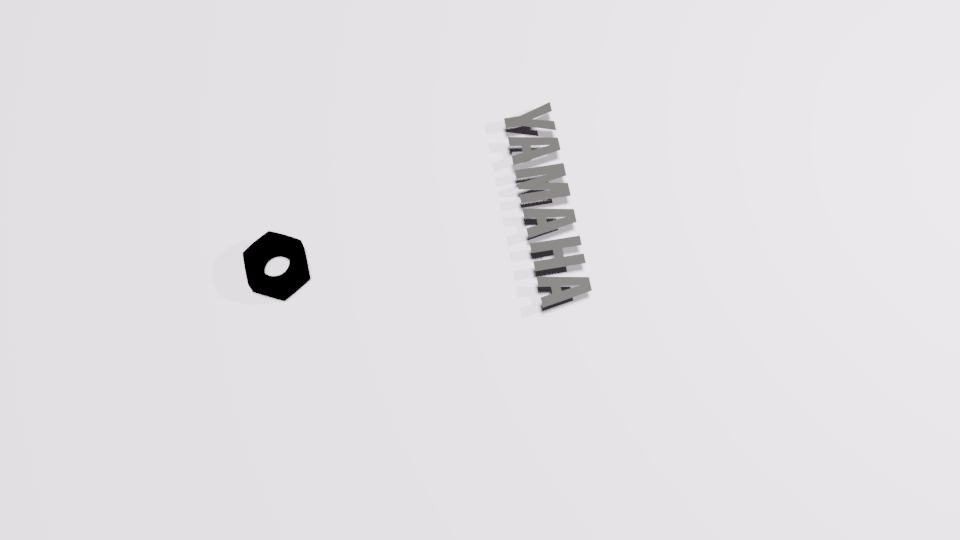yamaha_letters: (503, 101, 592, 308)
